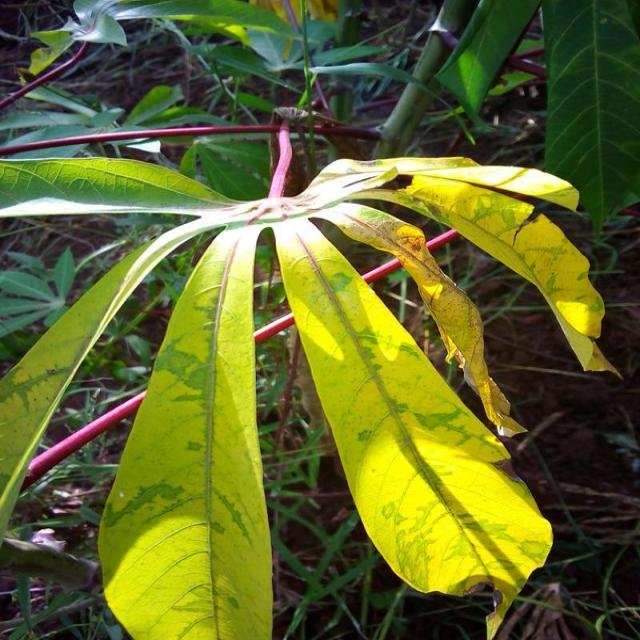cassava leaf: (1, 126, 618, 638), (272, 208, 555, 637), (98, 220, 274, 638)
